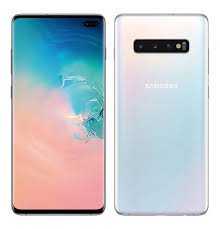samsung: (8, 9, 106, 215), (112, 11, 210, 217)
